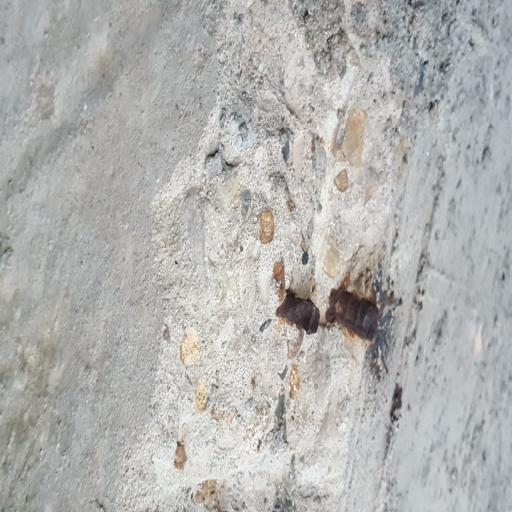exposed_rebar: (326, 286, 378, 341), (276, 290, 320, 334)
